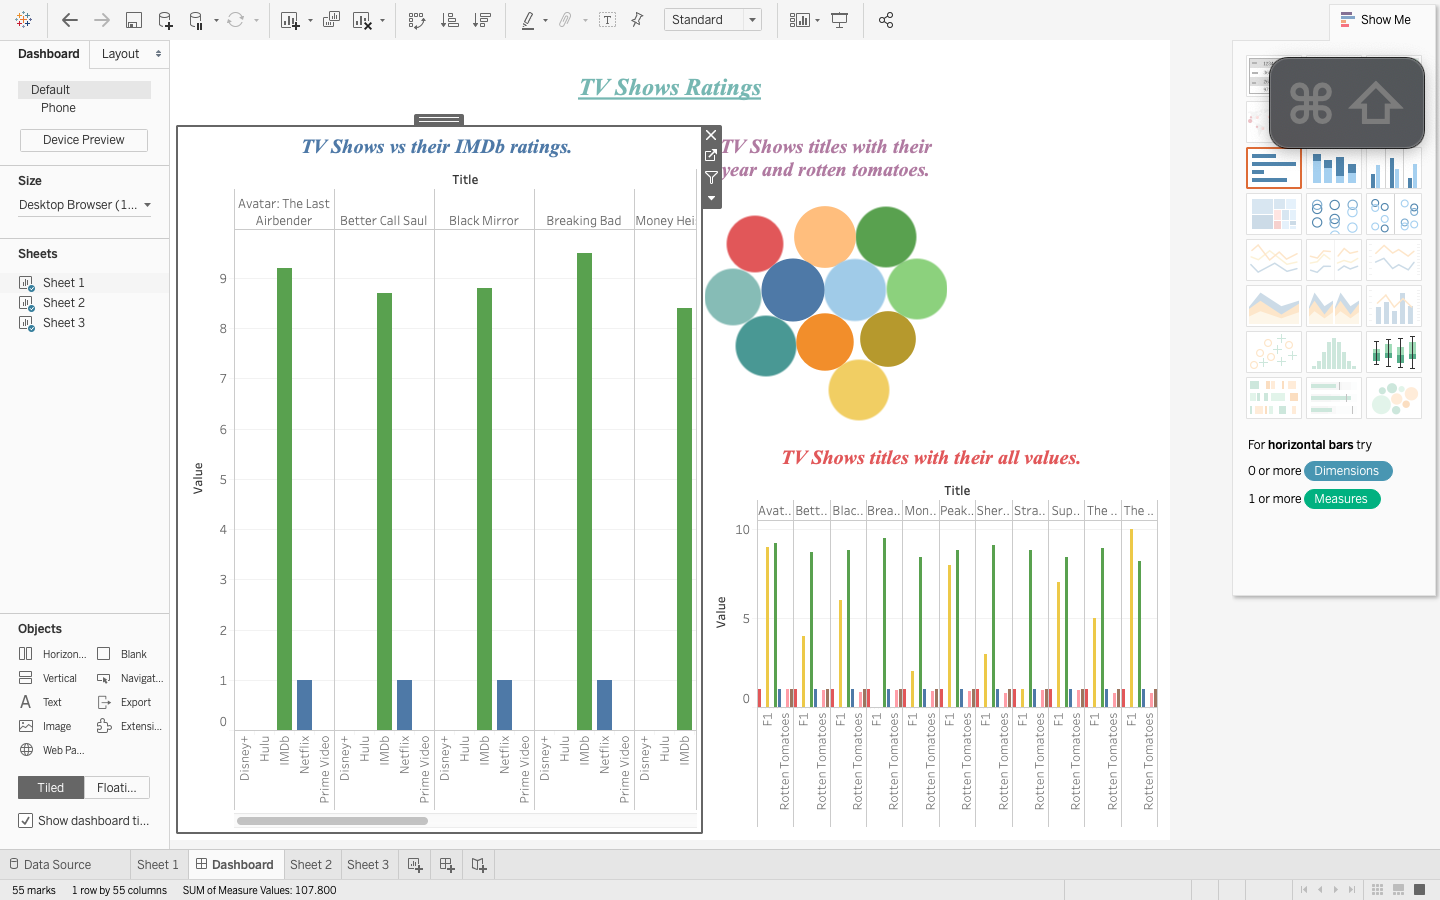

This screenshot's page, from the dashboard's own definition file:
{"tool":"tableau","page":{"name":"Dashboard ","canvas":[1000,800],"ordinal":0},"visuals":[{"type":"worksheet","box":[0,0,1000,800]},{"type":"worksheet","param":"vert","box":[8,8,984,784]},{"type":"worksheet","box":[8,8,984,79]},{"type":"worksheet","param":"vert","box":[8,87,984,705]},{"type":"worksheet","param":"horz","box":[8,87,984,705]},{"type":"worksheet","box":[8,87,523,705]},{"type":"worksheet","title":"Sheet 1","mark":"Automatic","cols":["Title"],"box":[8,87,523,705]},{"type":"worksheet","param":"vert","box":[531,87,461,705]},{"type":"worksheet","title":"Sheet 2","mark":"Circle","box":[531,87,461,311]},{"type":"worksheet","title":"Sheet 3","mark":"Automatic","cols":["Title"],"box":[531,398,461,394]}]}

Visuals, with their boxes on the page's 1000x800 design canvas (x1, y1, x2, y2). These are canvas units, not pixel positions in the 1440x900 screenshot, which may show the page scaled, cropped or inside an application window:
worksheet: crop(0, 0, 1000, 800)
worksheet: crop(8, 8, 992, 792)
worksheet: crop(8, 8, 992, 87)
worksheet: crop(8, 87, 992, 792)
worksheet: crop(8, 87, 992, 792)
worksheet: crop(8, 87, 531, 792)
"Sheet 1" worksheet: crop(8, 87, 531, 792)
worksheet: crop(531, 87, 992, 792)
"Sheet 2" worksheet (Circle marks): crop(531, 87, 992, 398)
"Sheet 3" worksheet: crop(531, 398, 992, 792)
